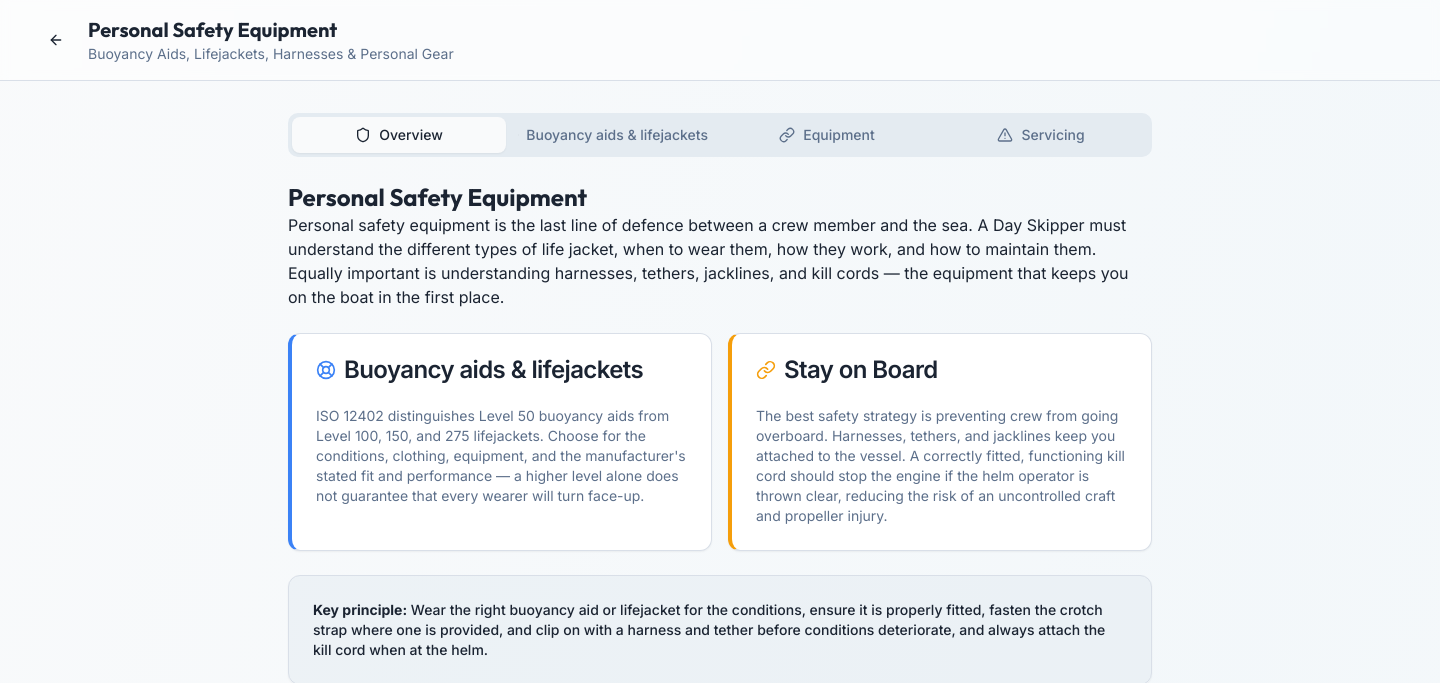
it: PersonalSafetyTheory lifejacket guidance › shows continuous-transfer, tethered-overboard, and source-scope guidance to learners
Step 1. Click the tab "Equipment" → {"x": 827, "y": 135}, box [720, 117, 934, 153]
(page scrolled)
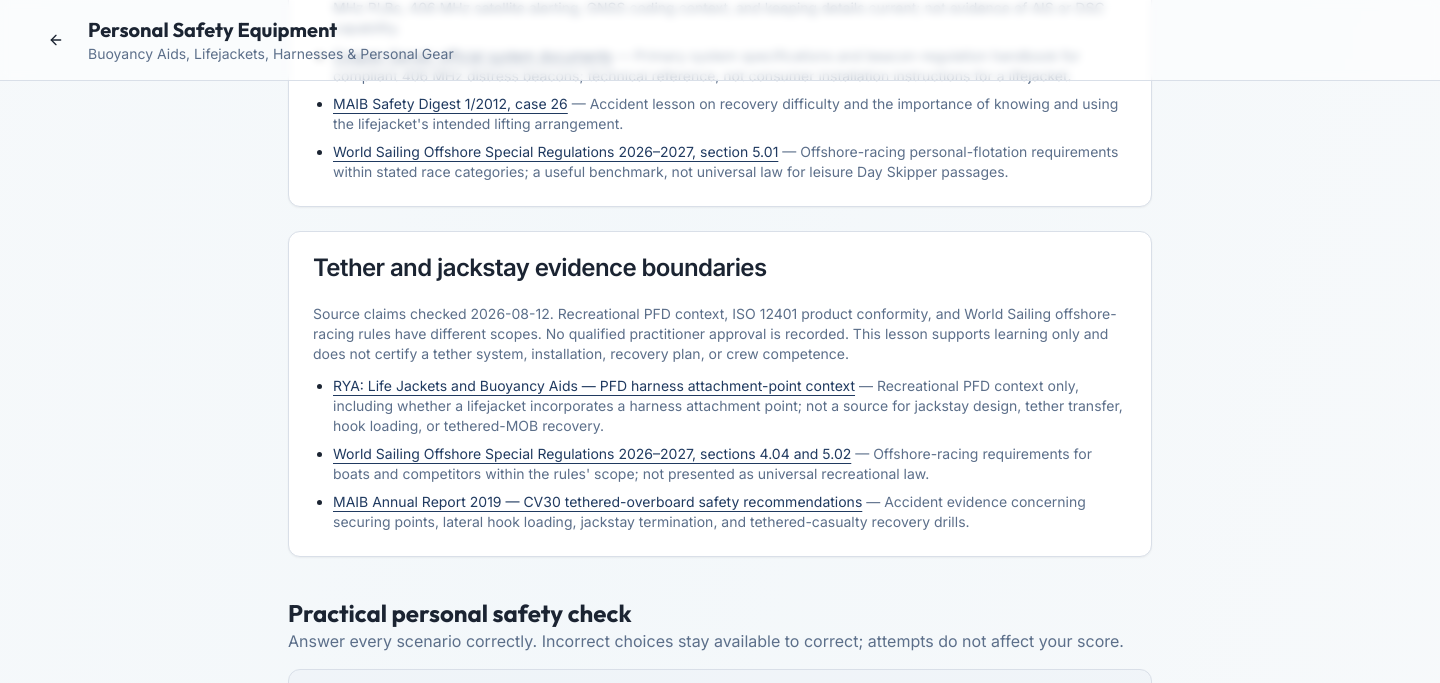
Result: the text "No qualified practitioner approval is recorded" is shown 2 times
Result: the link "PFD harness attachment-point context" is shown at [333, 377, 855, 394]
Result: the 4th link is shown at [333, 445, 851, 462]
